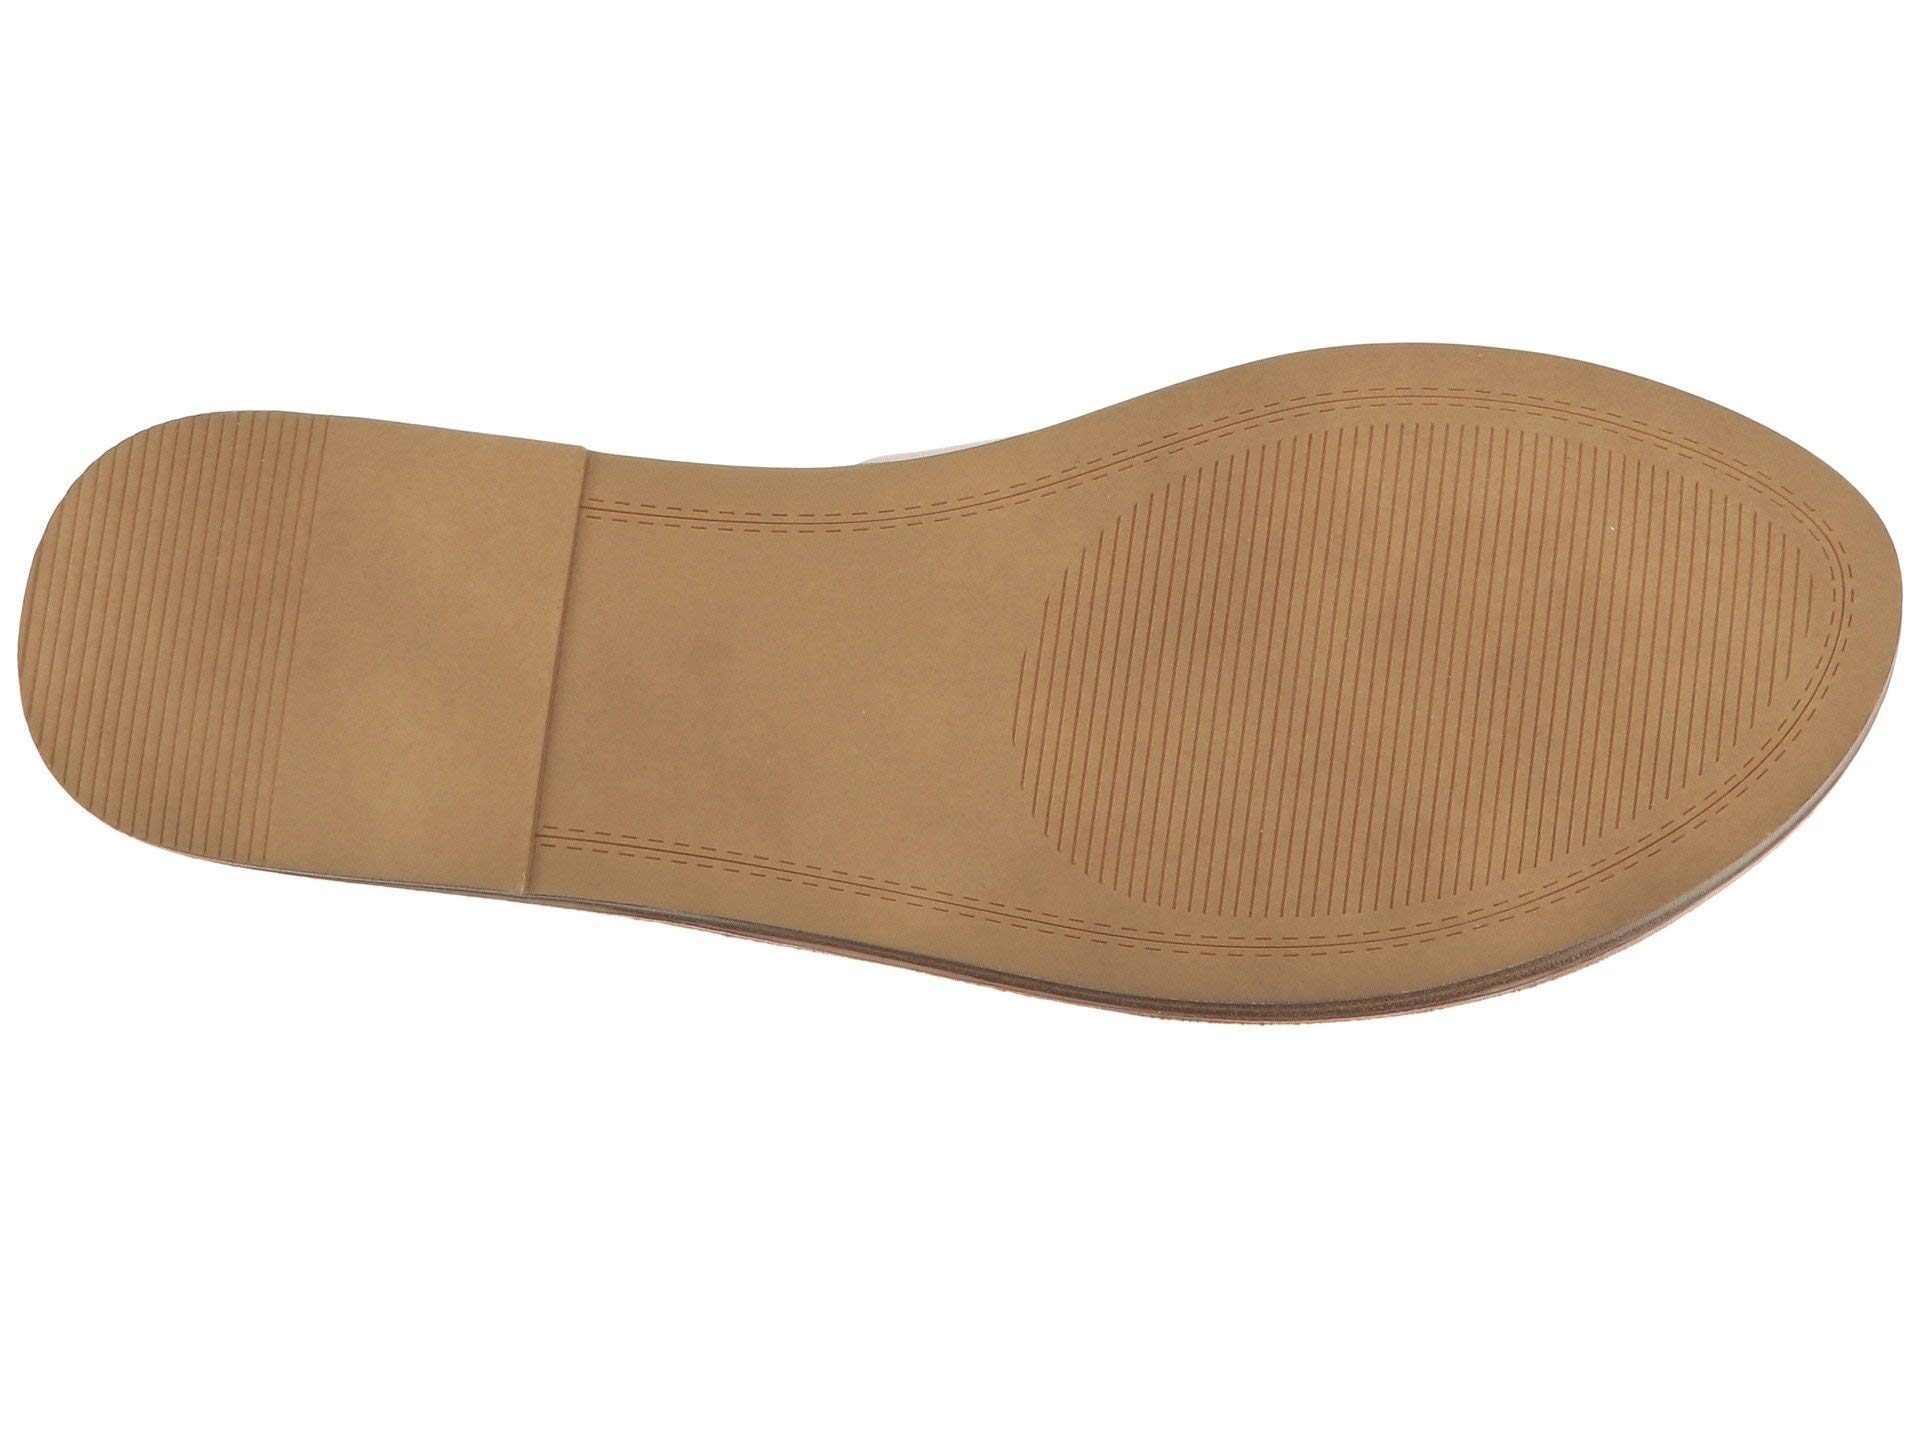line: (1096, 483, 1674, 850), (76, 473, 245, 803), (614, 476, 1008, 591), (559, 808, 924, 908), (1027, 900, 1466, 979), (1687, 514, 1820, 700), (1287, 384, 1661, 448)
quad: (614, 476, 1008, 591), (559, 808, 924, 908), (1027, 900, 1466, 979), (1287, 384, 1661, 448)
